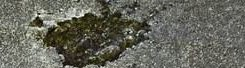Spalling: (43, 1, 151, 68), (29, 16, 46, 29)
